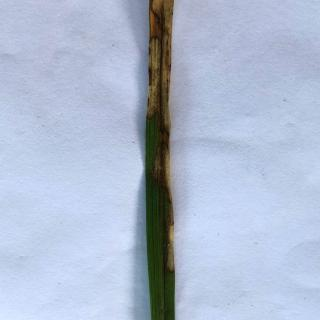Hawar-Daun: (146, 0, 170, 135), (149, 140, 174, 204), (163, 207, 176, 272)
